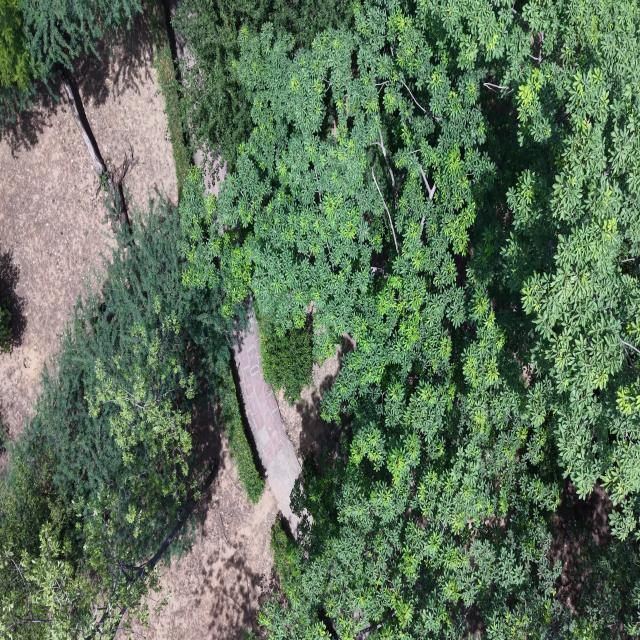DRY_AREA: (135, 316, 351, 639), (135, 316, 342, 639), (138, 364, 300, 639), (0, 99, 113, 435), (0, 100, 113, 435), (0, 99, 113, 434), (135, 442, 281, 639), (134, 441, 278, 639), (234, 313, 354, 535), (234, 313, 342, 535), (234, 313, 341, 535), (234, 314, 341, 535), (234, 314, 301, 535), (276, 334, 354, 464), (234, 314, 287, 470), (550, 481, 613, 607), (277, 352, 340, 464), (193, 148, 227, 195), (193, 150, 227, 196)
PATHWAYS: (234, 314, 301, 535)
VEGETATION_TREE: (0, 0, 639, 639), (186, 0, 639, 638), (0, 2, 264, 638), (0, 200, 237, 638), (0, 0, 144, 223), (0, 0, 142, 223), (174, 0, 352, 168), (32, 0, 142, 224), (0, 460, 106, 639), (0, 0, 142, 125), (19, 0, 142, 82), (147, 0, 191, 199), (219, 372, 265, 503), (219, 371, 264, 503), (257, 314, 313, 402), (0, 0, 34, 125), (0, 0, 30, 90), (0, 81, 36, 129), (0, 300, 12, 352), (0, 412, 8, 454)
